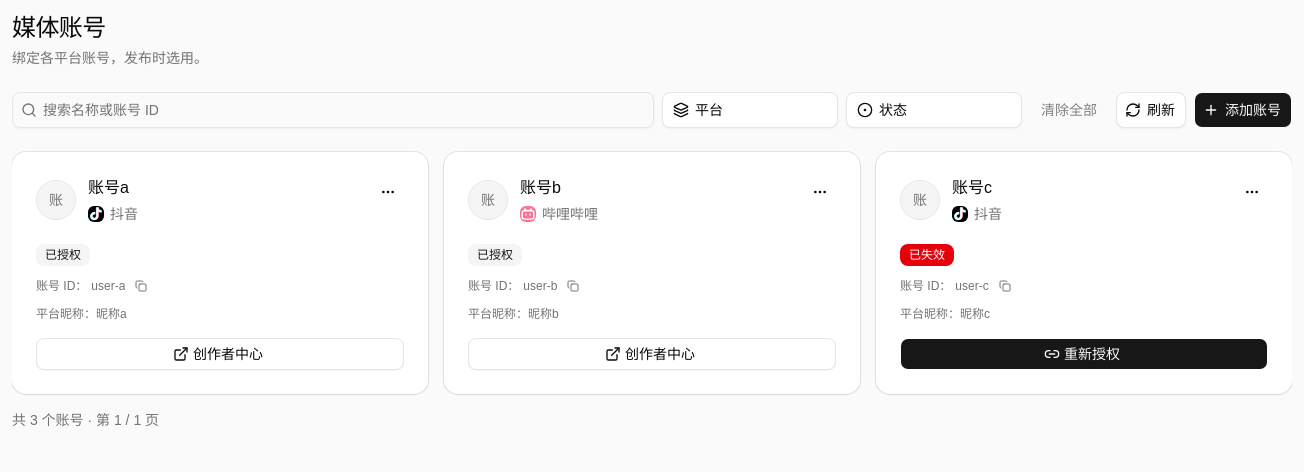
Test: puts creator-center failure on the correct card without exposing unknown codes
Expected: the text "共 3 个账号 · 第 1 / 1 页" is shown, [12, 410, 159, 430]
Click the button "创作者中心" below "昵称a" at (220, 354), box [36, 338, 404, 370]
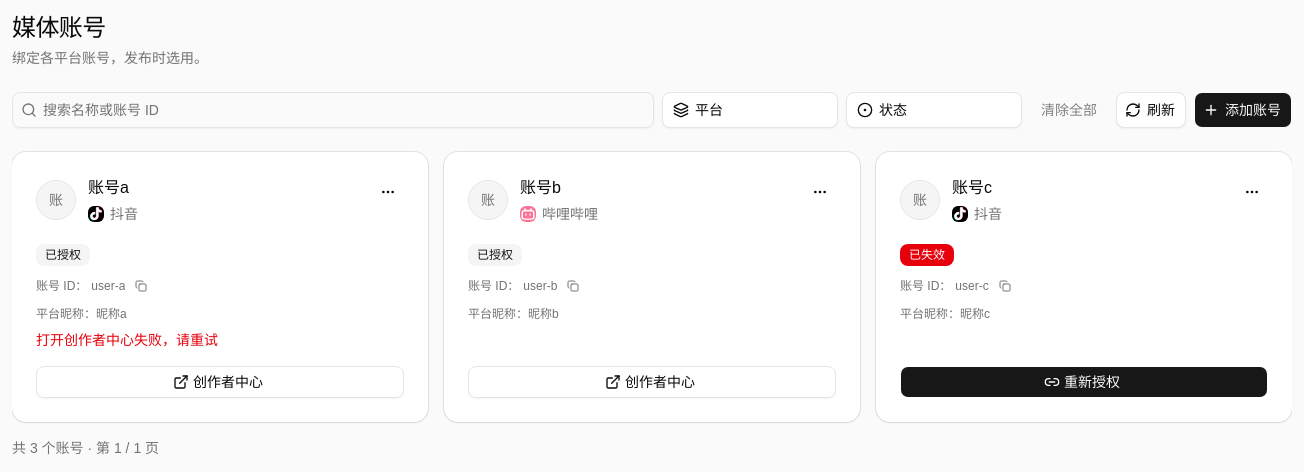
Now the text "打开创作者中心失败，请重试" is shown, box [36, 332, 218, 348]
